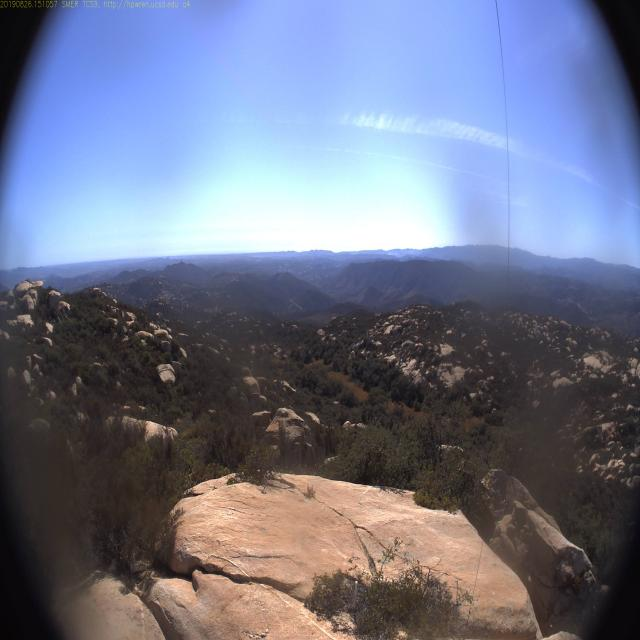smoke: (386, 249, 397, 259)
